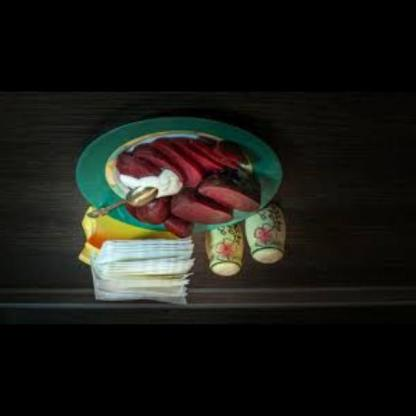beet: (110, 140, 254, 186), (197, 175, 267, 214), (130, 198, 190, 241), (167, 191, 231, 229)
